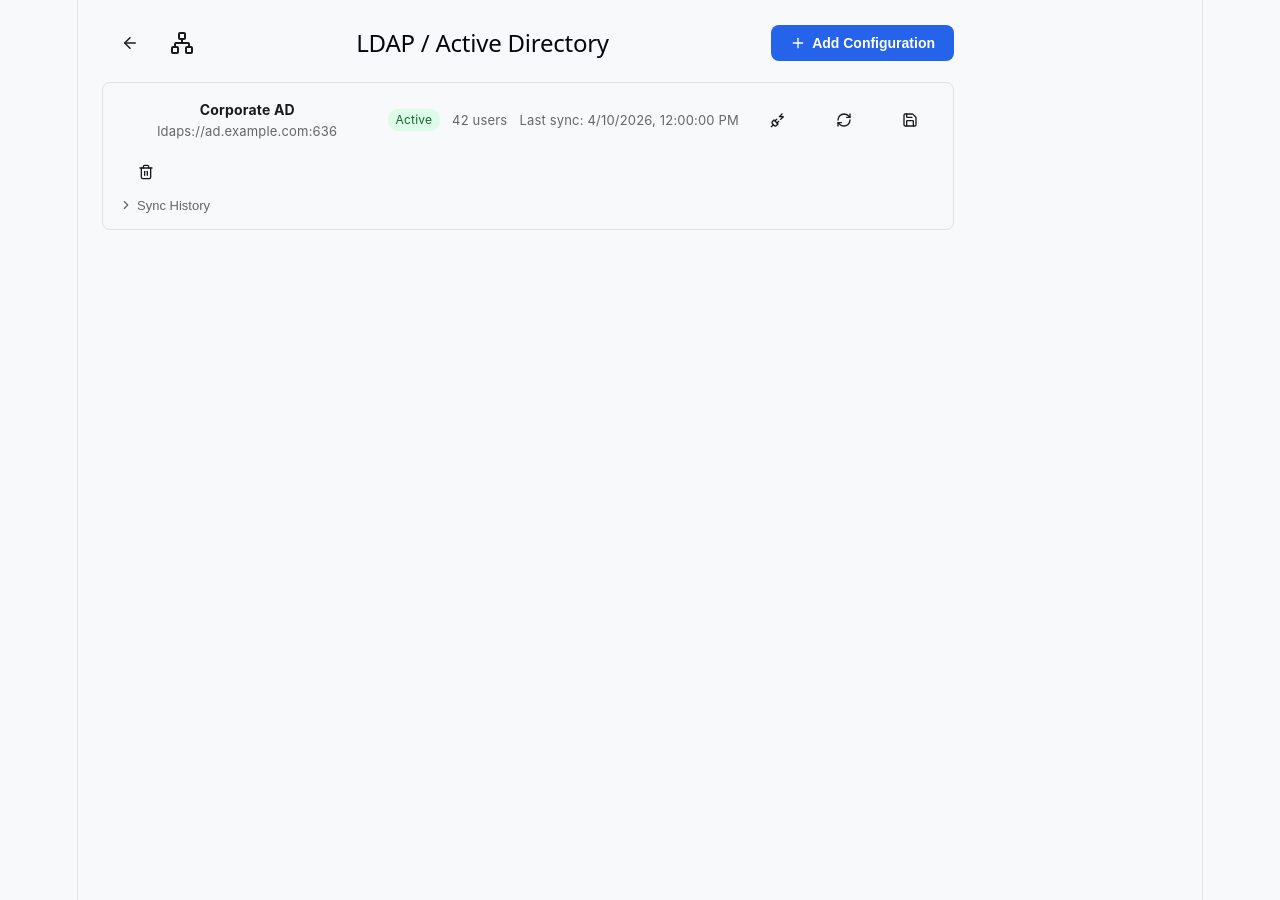
Scenario: LdapManager › shows sync history toggle for each config
The image size is (1280, 900).
# Added: Click to expand sync history
Click the button "Sync History".
click(164, 205)  # box top-left (119, 198), bottom-right (210, 212)
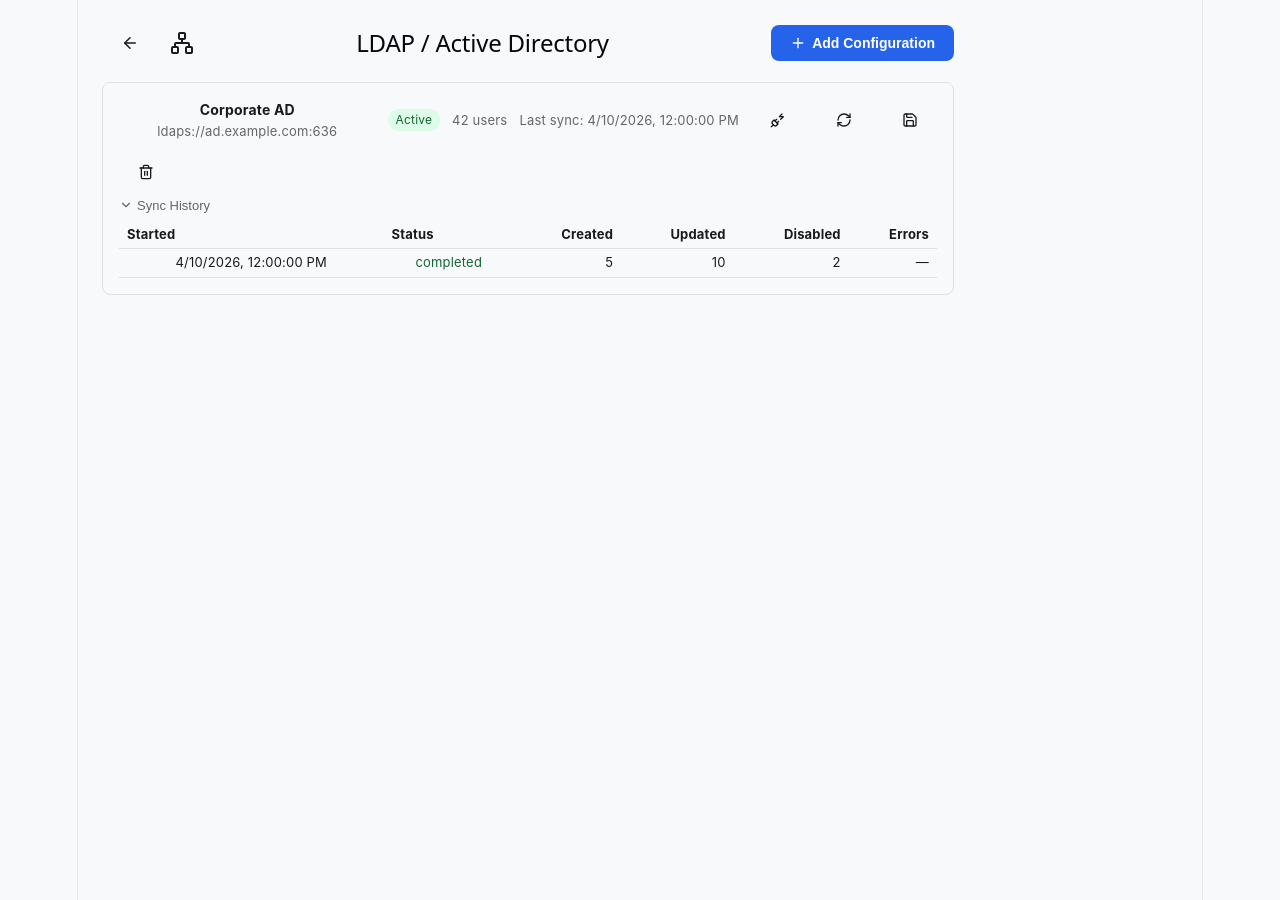
Expected: the text "completed" is shown, top-left (415, 254), bottom-right (482, 270)
